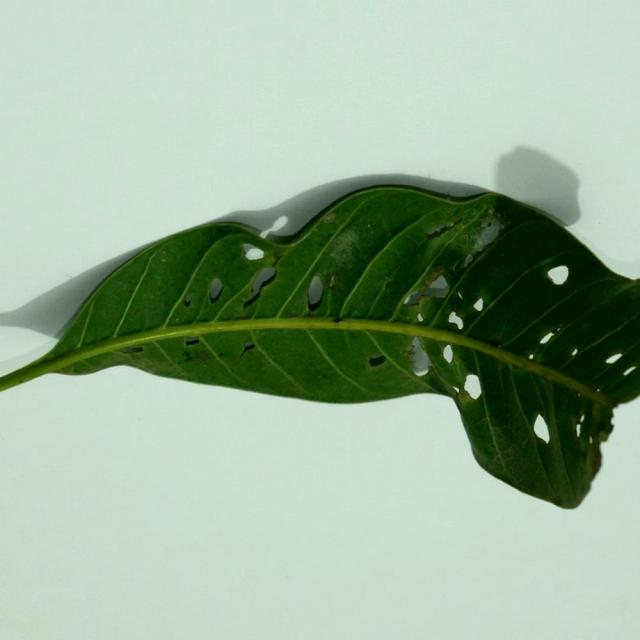Anthracnose: (115, 328, 293, 388), (524, 369, 580, 503), (417, 340, 474, 405), (404, 281, 461, 330), (295, 270, 337, 320), (320, 236, 340, 318), (2, 344, 51, 377), (605, 363, 640, 404), (64, 354, 127, 375), (598, 247, 636, 277), (179, 336, 220, 363), (424, 217, 461, 240), (148, 251, 180, 270), (223, 220, 261, 235), (58, 363, 99, 375), (533, 414, 549, 441), (403, 289, 427, 306), (550, 264, 571, 282), (535, 430, 550, 454), (270, 250, 287, 268), (231, 306, 250, 321), (242, 293, 257, 310), (319, 212, 338, 225), (539, 330, 556, 344), (451, 257, 464, 274), (606, 353, 622, 366), (120, 346, 144, 354), (623, 365, 637, 378), (548, 325, 564, 336), (598, 428, 610, 442), (426, 228, 441, 239), (184, 336, 200, 346), (464, 254, 474, 269), (488, 338, 502, 347), (227, 318, 241, 326), (183, 293, 191, 307), (570, 347, 579, 358), (385, 279, 394, 290), (575, 416, 583, 427), (198, 317, 211, 323), (528, 352, 536, 361), (416, 313, 424, 322), (457, 290, 464, 300), (595, 387, 603, 395), (427, 365, 434, 374), (483, 222, 491, 229), (326, 233, 332, 240)
Mango: (0, 175, 639, 512)
